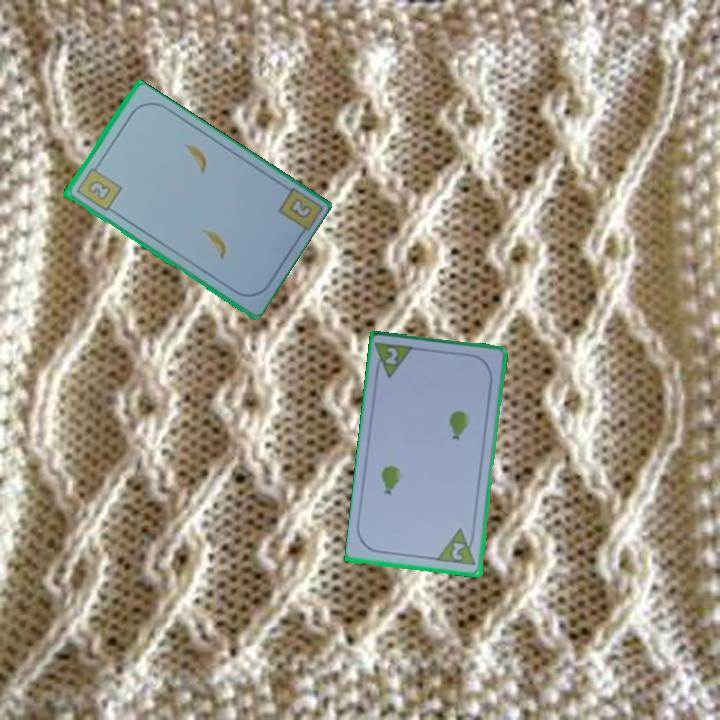2b: (72, 160, 124, 214), (285, 195, 315, 221)
2p: (372, 339, 418, 382), (435, 526, 479, 569)
